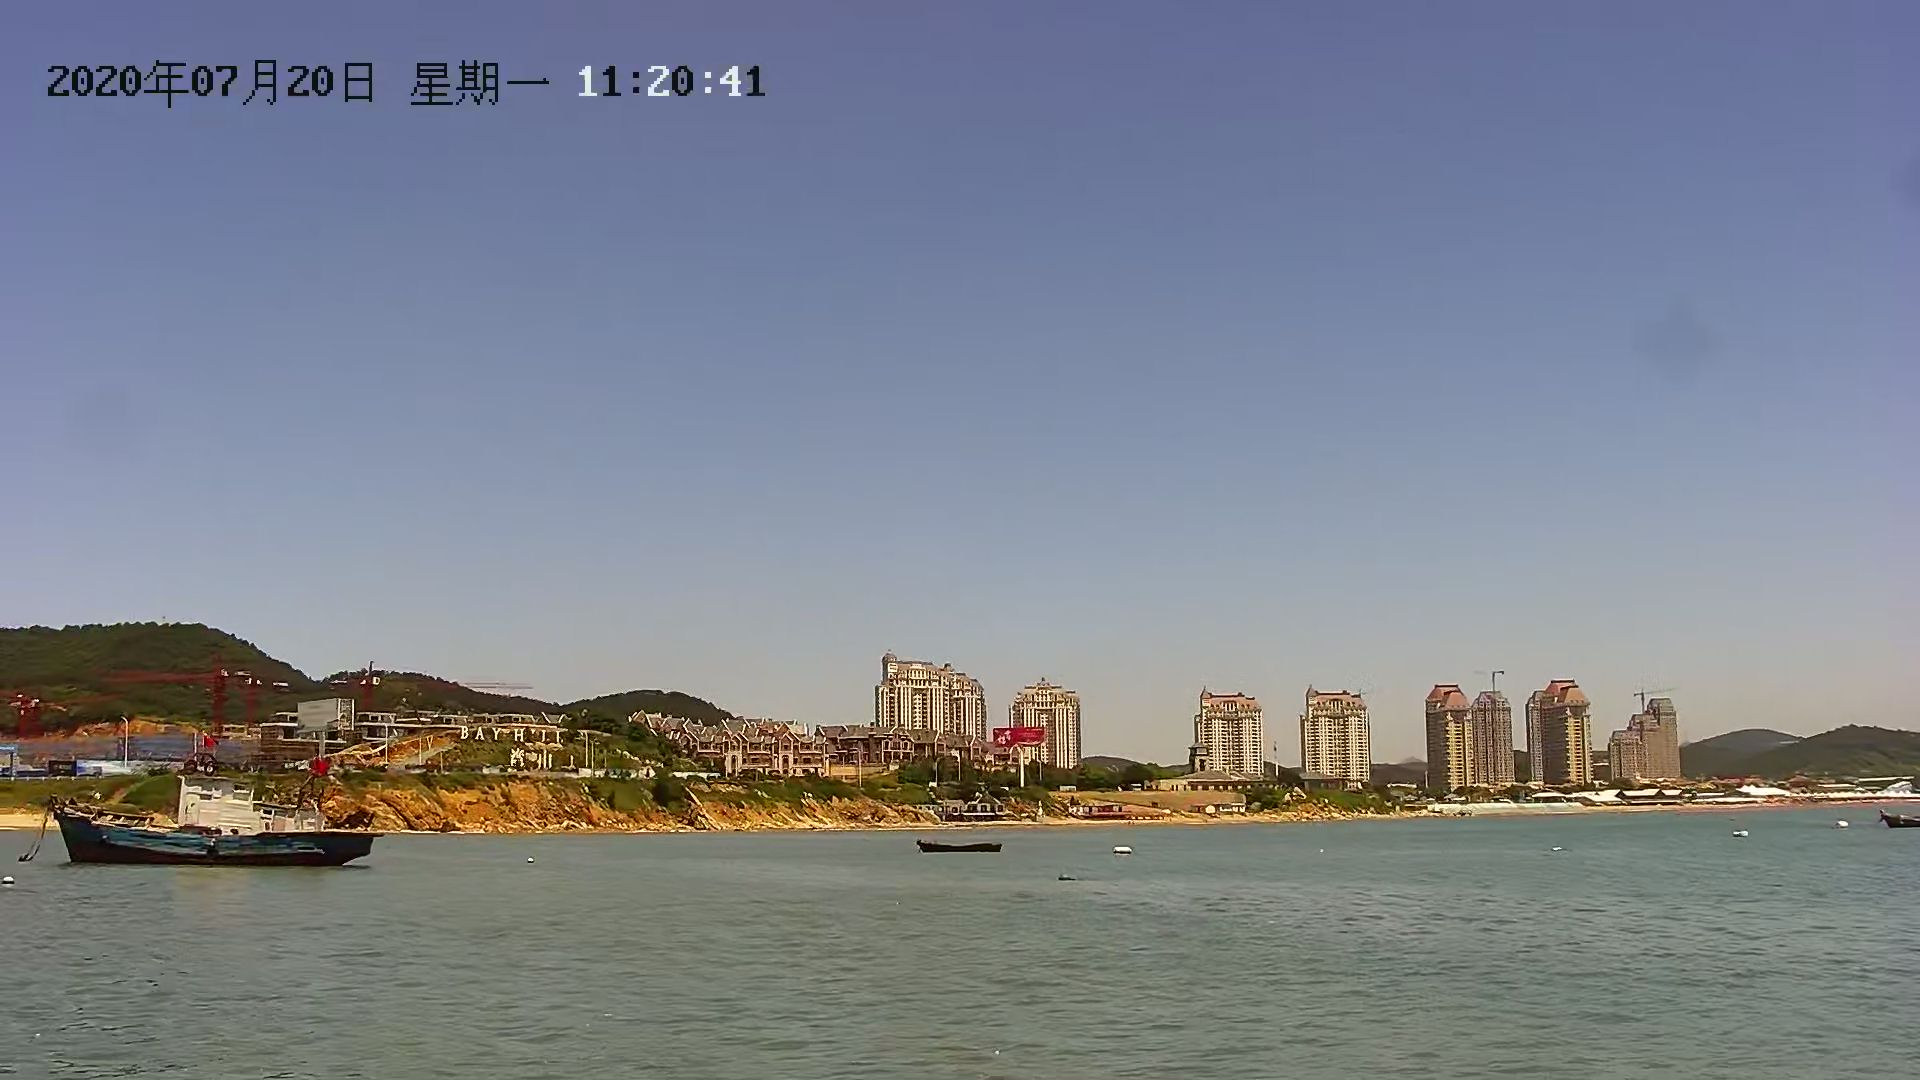ball: (1102, 843, 1135, 864), (1729, 824, 1756, 843), (1832, 818, 1851, 835)
boat: (40, 764, 386, 878), (910, 829, 1009, 862), (1869, 804, 1920, 837)
